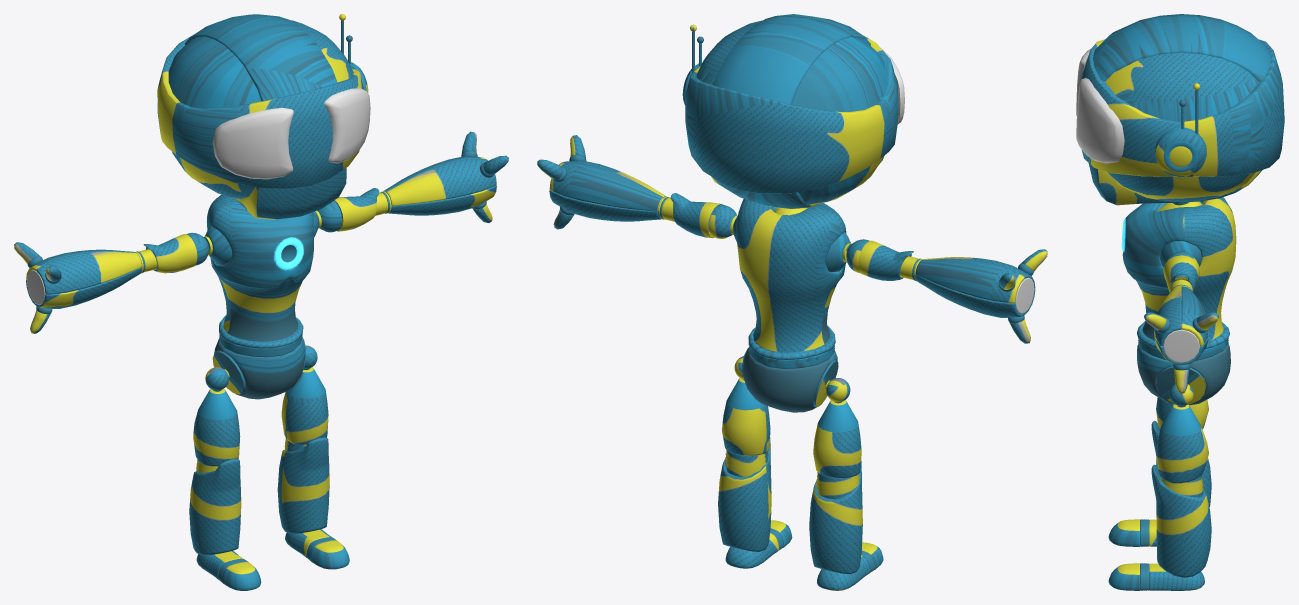
The model's file is PlayerCharacterUVW.fbx.
3 views of the same model, side by side, from view 1: azimuth 30°, elevation 25°; view 2: azimuth 150°, elevation 25°; view 3: azimuth 270°, elevation 25° (orthographic). The views are drawn at different scales.
Visible parts, largest first — view 1: Head_low.001, Chest_low.001, Head_Visor_low, Eyes_Right_low, Shin_Casing_Right_low, Shin_Casing_Left_low, ForeArm_Front_Upper_Casing_Left_low, Thigh_Casing_Right_low, ForeArm_Front_Upper_Casing_Right_low, Thigh_Casing_Left_low, Waiste_low.001, Eyes_Left_low (+9 smaller); view 2: Head_Visor_low, Head_low.001, Chest_low.001, Shin_Casing_Left_low, Shin_Casing_Right_low, Waiste_low.001, ForeArm_Back_Upper_Casing_Left_low, Thigh_Casing_Right_low, ForeArm_Back_Upper_Casing_Right_low, Thigh_Casing_Left_low, ForeArm_Bottom_Casing_Left_low, Bicep_Casing_Right_low (+8 smaller); view 3: Head_low.001, Head_Visor_low, Chest_low.001, Shin_Casing_Left_low, Thigh_Casing_Left_low, Eyes_Left_low, Waiste_low.001, EarPiece_low.001, Heel_Left_low, Magnet_Left_low, Bicep_Casing_Left_low, HipPlate_Left_low (+12 smaller).
Part boxes in pixels (box(x1,y1,x2,y2)): Head_low.001: box(168, 14, 353, 219); Chest_low.001: box(207, 194, 313, 348); Head_Visor_low: box(157, 35, 363, 188); Eyes_Right_low: box(212, 107, 293, 179); Shin_Casing_Right_low: box(189, 459, 241, 555); Shin_Casing_Left_low: box(277, 437, 329, 533); ForeArm_Front_Upper_Casing_Left_low: box(386, 158, 496, 205); Thigh_Casing_Right_low: box(193, 388, 240, 466); ForeArm_Front_Upper_Casing_Right_low: box(36, 251, 141, 294); Thigh_Casing_Left_low: box(281, 367, 328, 444); Waiste_low.001: box(214, 338, 305, 399); Eyes_Left_low: box(324, 88, 370, 163); Head_Visor_low: box(685, 35, 898, 193); Head_low.001: box(696, 14, 887, 208); Chest_low.001: box(736, 199, 846, 359); Shin_Casing_Left_low: box(718, 437, 771, 551); Shin_Casing_Right_low: box(809, 461, 862, 574); Waiste_low.001: box(742, 347, 837, 412); ForeArm_Back_Upper_Casing_Left_low: box(549, 162, 663, 211); Thigh_Casing_Right_low: box(813, 400, 861, 477); ForeArm_Back_Upper_Casing_Right_low: box(915, 258, 1024, 303); Thigh_Casing_Left_low: box(722, 378, 770, 455); ForeArm_Bottom_Casing_Left_low: box(549, 190, 661, 221); Bicep_Casing_Right_low: box(858, 240, 913, 280); Head_low.001: box(1088, 14, 1271, 205); Head_Visor_low: box(1081, 39, 1284, 176); Chest_low.001: box(1121, 197, 1236, 349); Shin_Casing_Left_low: box(1151, 464, 1211, 577); Thigh_Casing_Left_low: box(1156, 404, 1208, 483); Eyes_Left_low: box(1076, 78, 1124, 163); Waiste_low.001: box(1137, 344, 1230, 405); EarPiece_low.001: box(1155, 127, 1206, 176); Heel_Left_low: box(1149, 563, 1204, 590); Magnet_Left_low: box(1163, 329, 1199, 362); Bicep_Casing_Left_low: box(1163, 255, 1199, 292); HipPlate_Left_low: box(1156, 366, 1205, 404).
Bounding box in the file's own units: 96.38 × 251 × 274.
